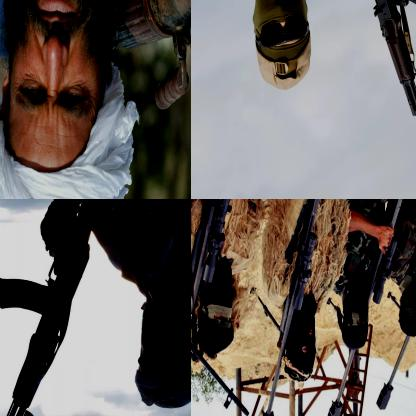rifle: (0, 199, 97, 415), (327, 199, 413, 415), (255, 199, 332, 415), (347, 0, 415, 193), (191, 199, 247, 415), (110, 0, 190, 112), (375, 199, 415, 415)
